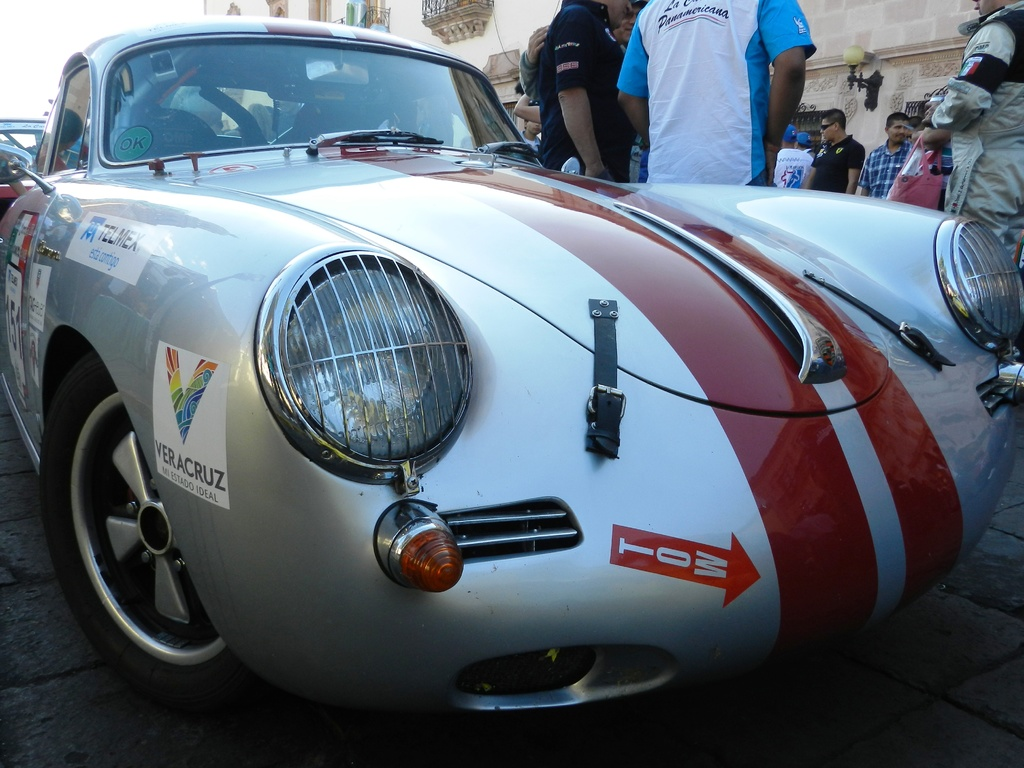Car: (12, 35, 910, 734), (0, 118, 49, 221)
